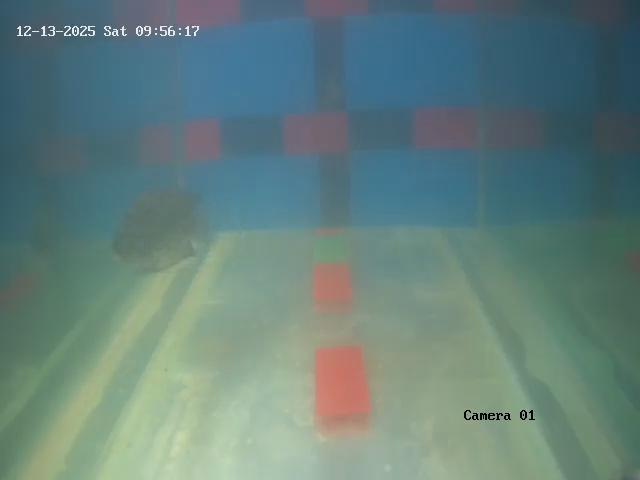fish: (101, 178, 215, 277)
